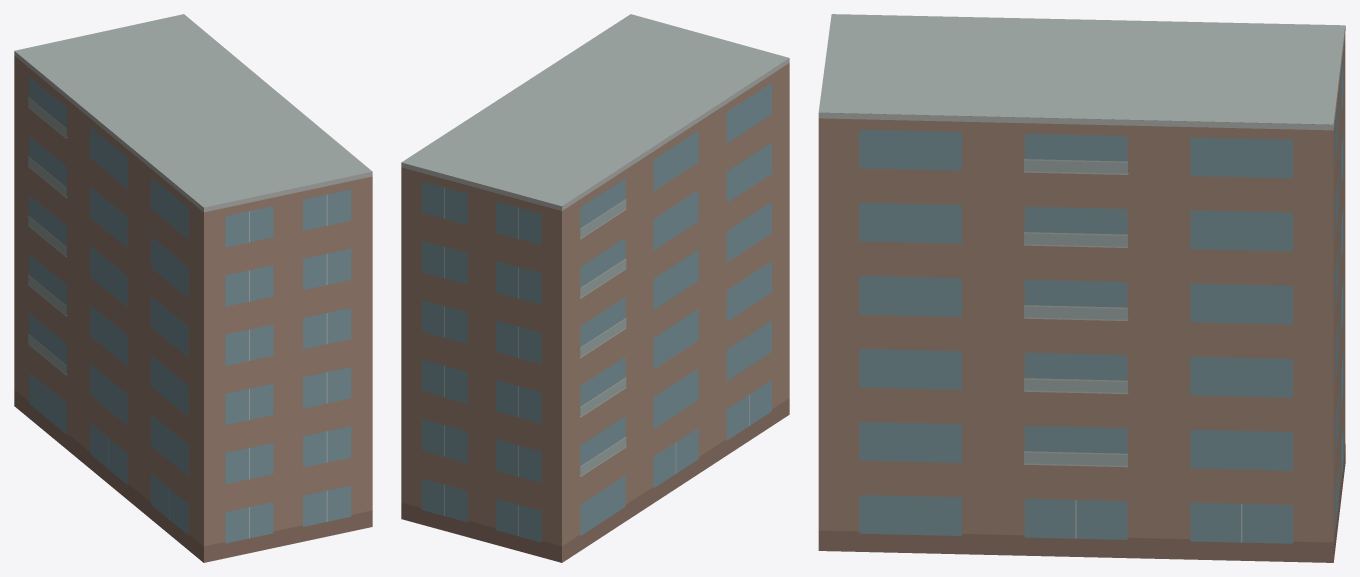
File: survey-upis-32926741.glb
3 renders of one model, left to right at view 1: azimuth 30°, elevation 25°; view 2: azimuth 150°, elevation 25°; view 3: azimuth 270°, elevation 25°, orthographic. The views are drawn at different scales.
Visible parts, largest first — view 1: survey-upis-32926741.tmp; view 2: survey-upis-32926741.tmp; view 3: survey-upis-32926741.tmp.
Boxes of the visible parts, x1,y1,x2,y2 form: survey-upis-32926741.tmp: (14, 14, 372, 562); survey-upis-32926741.tmp: (401, 14, 789, 562); survey-upis-32926741.tmp: (818, 14, 1345, 562).
Bounding box in the file's own units: 9.91 × 18.3 × 19.94.
